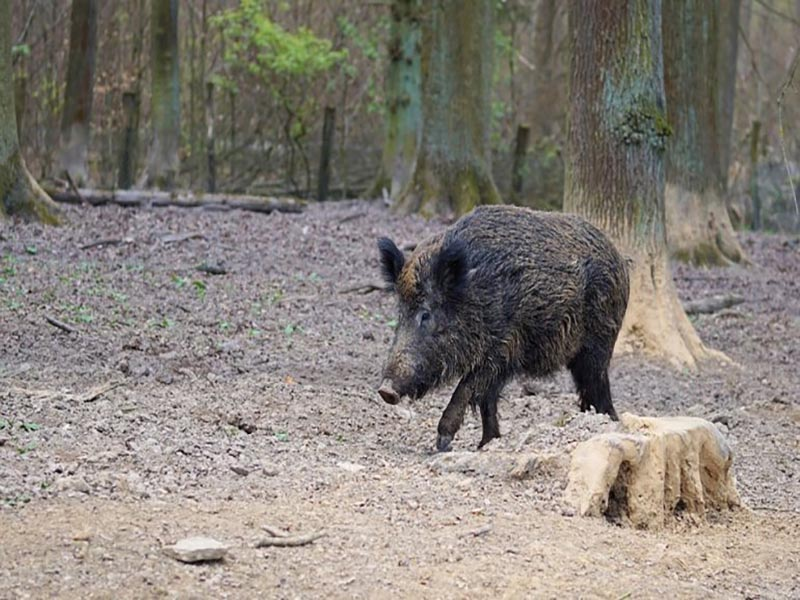cinghiale: (369, 209, 637, 450)
